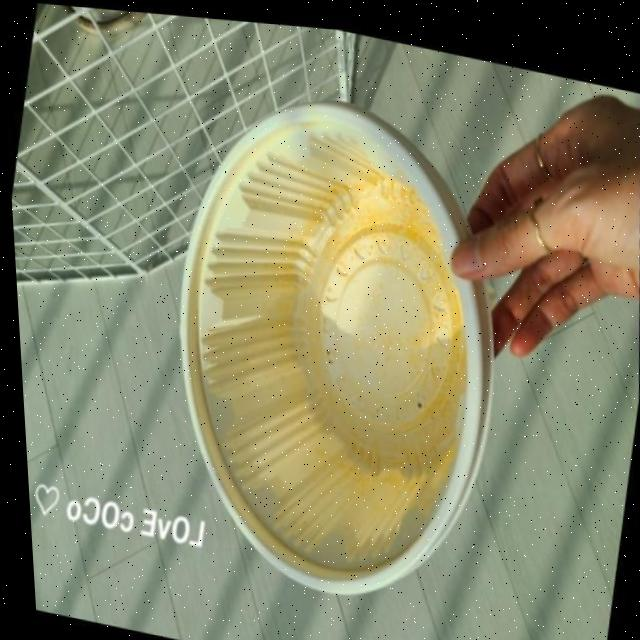disposable: (138, 41, 520, 640)
